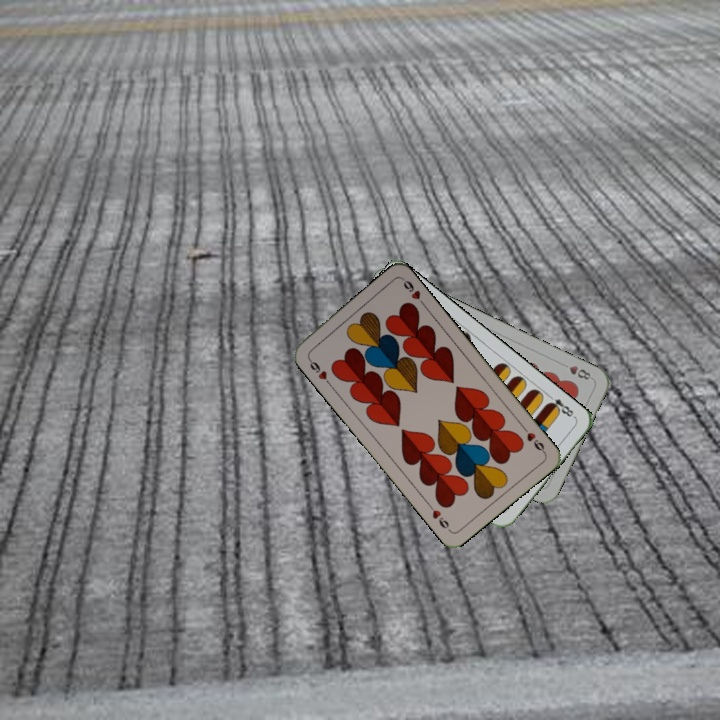E8: (543, 390, 578, 421)
H8: (565, 361, 593, 383)
H9: (518, 422, 548, 456), (304, 353, 333, 388)
